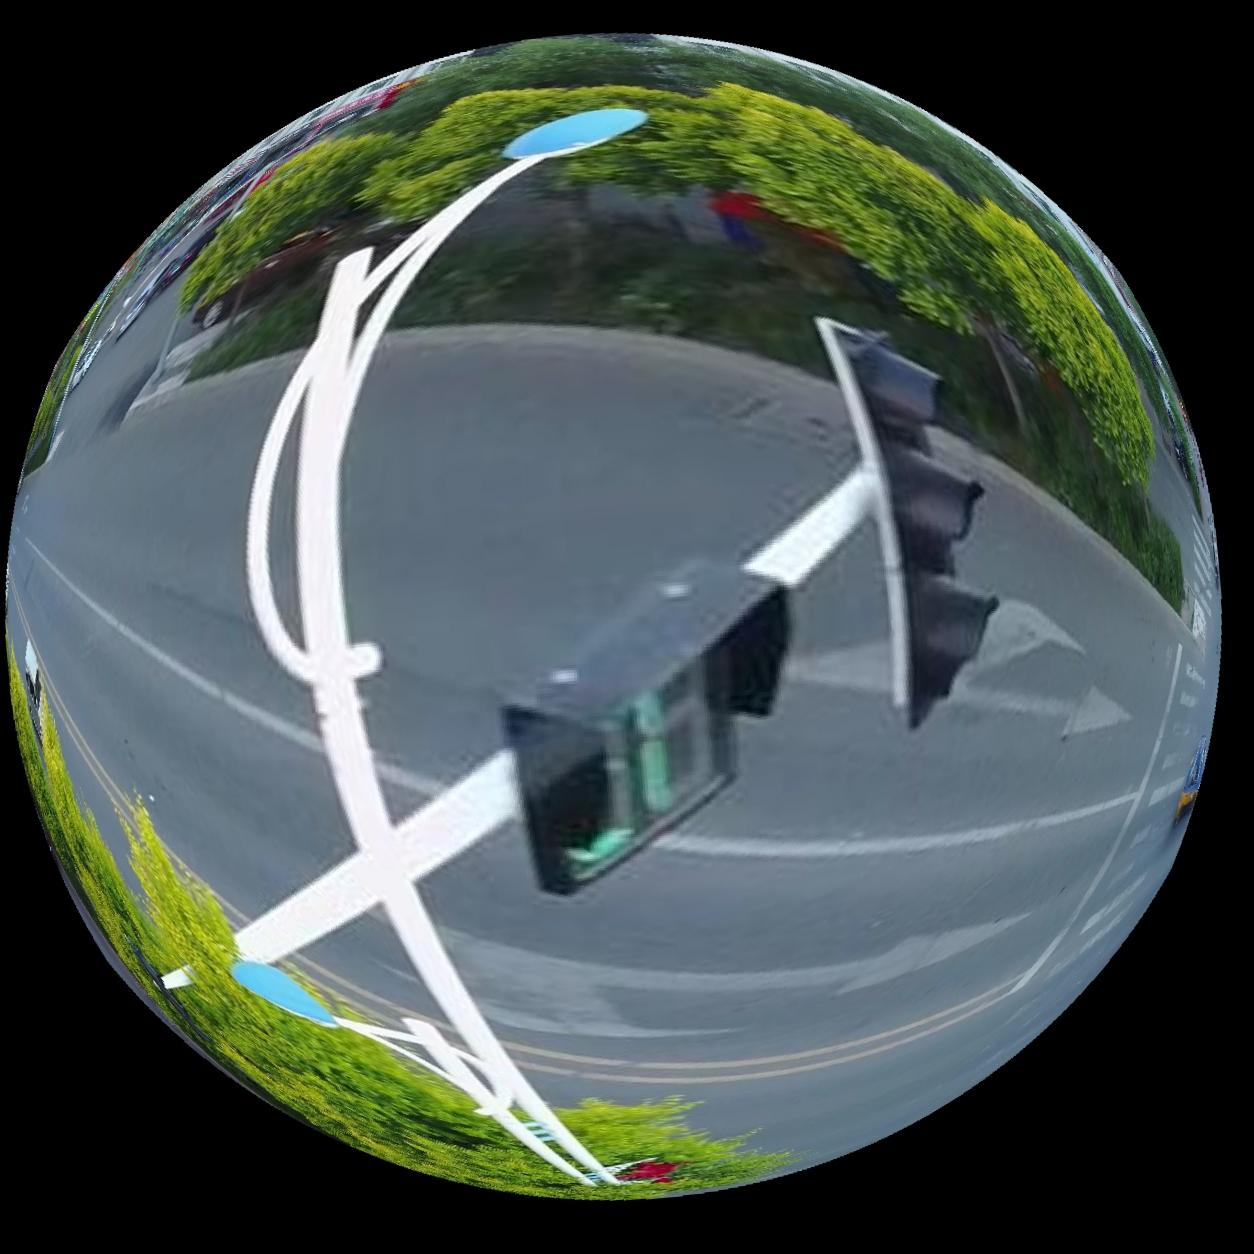trees: (22, 720, 790, 1201), (629, 82, 1154, 483), (178, 84, 672, 310)
